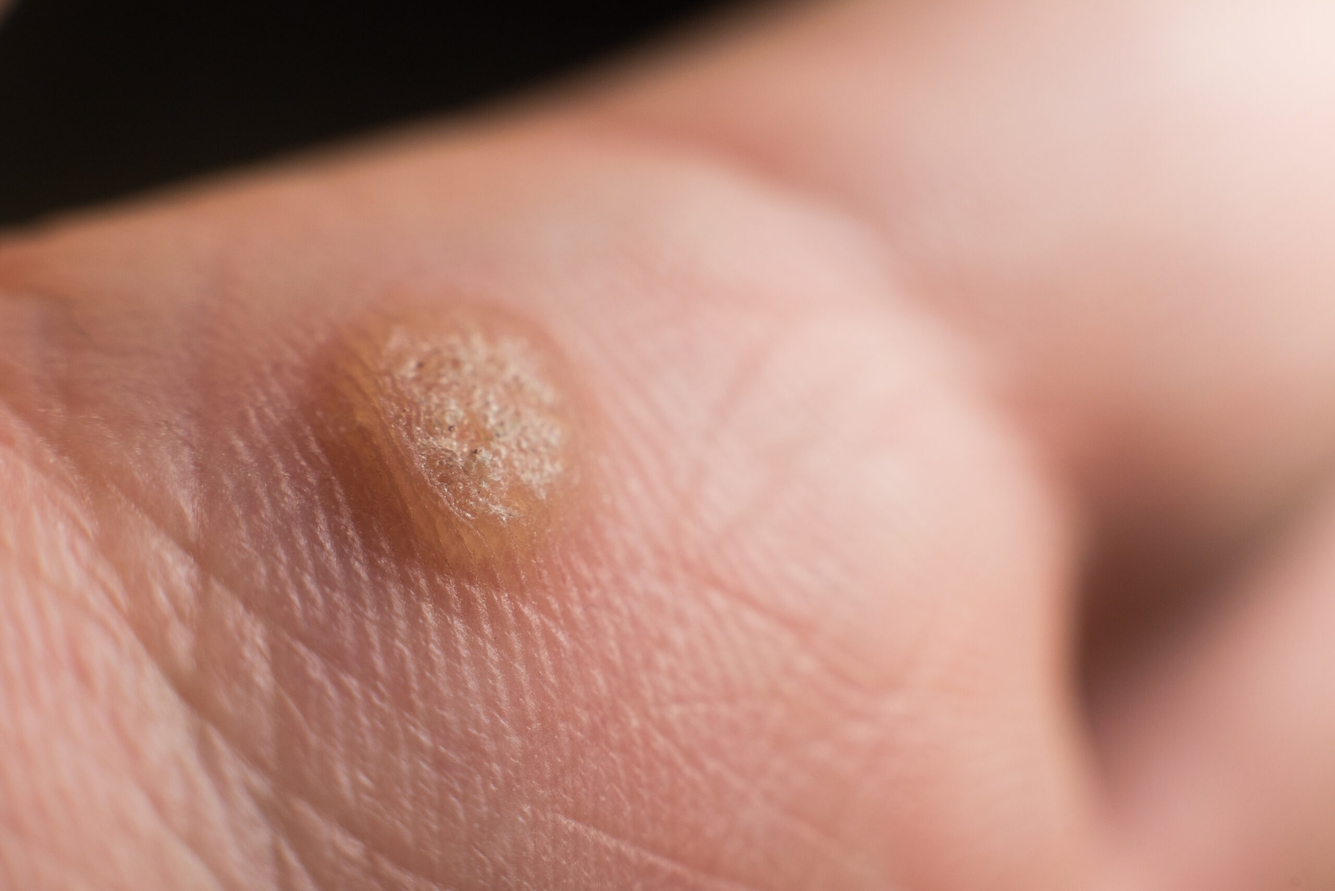Warts: (280, 244, 649, 611)
